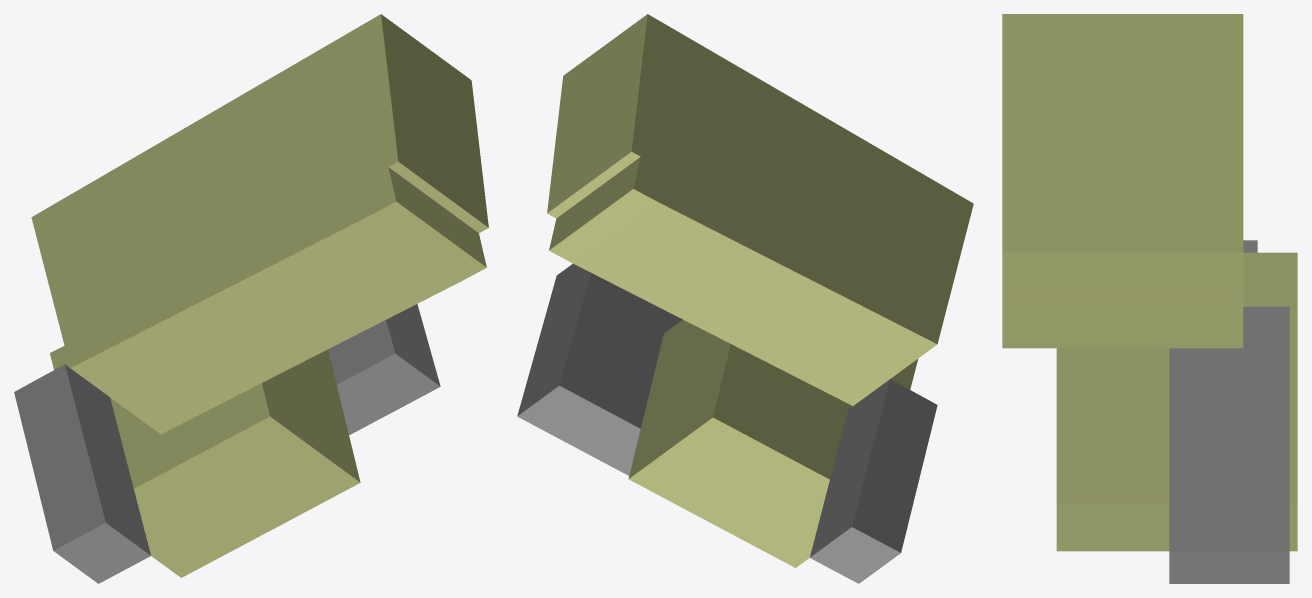
3 renders of one model, left to right at view 1: azimuth 30°, elevation 25°; view 2: azimuth 150°, elevation 25°; view 3: azimuth 270°, elevation 25°, orthographic. The views are drawn at different scales.
Parts seen in each view (by area): view 1: 0_1_2_0_0_2_2_1_3_3; view 2: 0_1_2_0_0_2_2_1_3_3; view 3: 0_1_2_0_0_2_2_1_3_3.
Boxes of the visible parts, x1,y1,x2,y2 form: 0_1_2_0_0_2_2_1_3_3: [14, 14, 488, 583]; 0_1_2_0_0_2_2_1_3_3: [517, 14, 973, 583]; 0_1_2_0_0_2_2_1_3_3: [1002, 14, 1297, 583].
Bounding box in the file's own units: 15.05 × 16.89 × 7.36.
